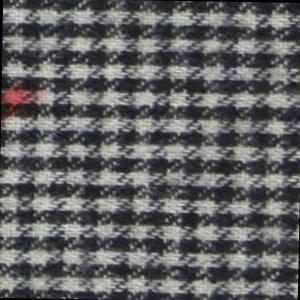Stain: (2, 73, 48, 126)
